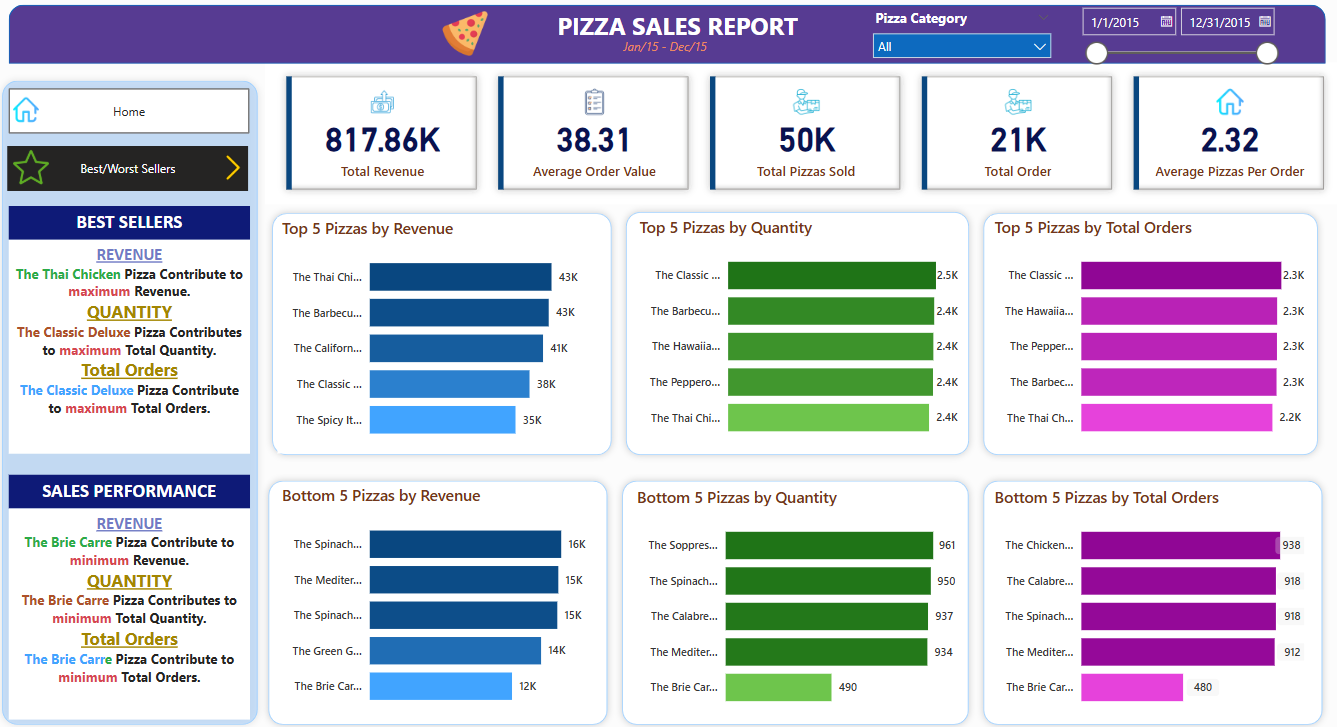

What the dashboard file says about the page in this screenshot:
{"tool":"powerbi","page":{"name":"Best/Worst Sellers","canvas":[1500,820],"ordinal":1},"visuals":[{"type":"shape","box":[0,86.3,300.8,733.9],"z":0},{"type":"cardVisual","fields":{"Data":["cleaned_pizza_sales.Total Revenue","cleaned_pizza_sales.Average Order Value","cleaned_pizza_sales.Total Pizzas Sold","cleaned_pizza_sales.Total Order","cleaned_pizza_sales.Average Pizzas Per Order"]},"box":[300.8,73.8,1199.1,158.8],"z":1000},{"type":"shape","box":[15.7,10,1467.1,65.7],"z":2000},{"type":"textbox","box":[611.4,9.7,298,48.7],"z":3000},{"type":"textbox","box":[694.9,41.8,121.2,32],"z":4000},{"type":"image","box":[492.9,7.1,61.4,70],"z":5000},{"type":"shape","box":[300.8,234,394.1,285.5],"z":6000},{"type":"slicer","title":"% of Sales by Pizza Category","fields":{"Values":["cleaned_pizza_sales.pizza_category"]},"box":[967.9,9.7,218.6,64.1],"z":7000},{"type":"textbox","box":[15.3,234,268.8,37.6],"z":8000},{"type":"textbox","box":[15.3,533.4,268.8,37.6],"z":9000},{"type":"textbox","box":[15.3,271.6,268.8,238.1],"z":10000},{"type":"textbox","box":[15.3,571,268.8,235.4],"z":11000},{"type":"slicer","title":"% of Sales by Pizza Category","fields":{"Values":["cleaned_pizza_sales.order_date"]},"box":[1199.1,2.8,239.5,83.6],"z":12000},{"type":"shape","box":[694.9,232.6,398.3,286.9],"z":13000},{"type":"shape","box":[1093.2,234,388.6,285.5],"z":14000},{"type":"shape","box":[296.6,532,394.1,288.3],"z":15000},{"type":"shape","box":[690.8,532,402.5,288.3],"z":16000},{"type":"shape","box":[1093.2,532,394.1,288.3],"z":17000},{"type":"barChart","title":"Top 5 Pizzas by Revenue","fields":{"Category":["cleaned_pizza_sales.pizza_name"],"Y":["cleaned_pizza_sales.Total Revenue"]},"box":[314.7,246.5,360.7,263.2],"z":18000},{"type":"barChart","title":"Bottom 5 Pizzas by Revenue","fields":{"Category":["cleaned_pizza_sales.pizza_name"],"Y":["cleaned_pizza_sales.Total Revenue"]},"box":[314.7,544.5,360.7,261.8],"z":19000},{"type":"barChart","title":"Top 5 Pizzas by Quantity","fields":{"Category":["cleaned_pizza_sales.pizza_name"],"Y":["cleaned_pizza_sales.Total Pizzas Sold"]},"box":[712.4,244.4,365,262.1],"z":20000},{"type":"barChart","title":"Bottom 5 Pizzas by Quantity","fields":{"Category":["cleaned_pizza_sales.pizza_name"],"Y":["cleaned_pizza_sales.Total Pizzas Sold"]},"box":[710.3,545.9,364.9,261.8],"z":21000},{"type":"barChart","title":"Top 5 Pizzas by Total Orders","fields":{"Category":["cleaned_pizza_sales.pizza_name"],"Y":["cleaned_pizza_sales.Total Order"]},"box":[1108,244.4,355.4,262.1],"z":22000},{"type":"barChart","title":"Bottom 5 Pizzas by Total Orders","fields":{"Category":["cleaned_pizza_sales.pizza_name"],"Y":["cleaned_pizza_sales.Total Order"]},"box":[1108.6,545.9,355.1,261.8],"z":23000},{"type":"pageNavigator","box":[13.9,167.1,268.8,50.1],"z":23001},{"type":"pageNavigator","box":[15.3,103.1,268.8,50.1],"z":23002},{"type":"image","box":[246.5,164.3,37.6,52.9],"z":23003},{"type":"image","box":[15.3,100.3,39,52.9],"z":23004},{"type":"image","box":[15.3,164.3,50.1,52.9],"z":23005}]}

Visuals, with their boxes in screenshot pixels (x1, y1, x2, y2), scaled from the page's 1500x820 canvas onto the 1337x727 screenshot:
shape: 0, 77, 268, 726
cardVisual - cleaned_pizza_sales.Total Revenue x cleaned_pizza_sales.Average Order Value: 268, 65, 1336, 206
shape: 14, 9, 1322, 67
textbox: 545, 9, 811, 52
textbox: 619, 37, 727, 65
image: 439, 6, 494, 68
shape: 268, 207, 619, 461
"% of Sales by Pizza Category" slicer: 863, 9, 1058, 65
textbox: 14, 207, 253, 241
textbox: 14, 473, 253, 506
textbox: 14, 241, 253, 452
textbox: 14, 506, 253, 715
"% of Sales by Pizza Category" slicer: 1069, 2, 1282, 77
shape: 619, 206, 974, 461
shape: 974, 207, 1321, 461
shape: 264, 472, 616, 726
shape: 616, 472, 974, 726
shape: 974, 472, 1326, 726
"Top 5 Pizzas by Revenue" barChart: 281, 219, 602, 452
"Bottom 5 Pizzas by Revenue" barChart: 281, 483, 602, 715
"Top 5 Pizzas by Quantity" barChart: 635, 217, 960, 449
"Bottom 5 Pizzas by Quantity" barChart: 633, 484, 958, 716
"Top 5 Pizzas by Total Orders" barChart: 988, 217, 1304, 449
"Bottom 5 Pizzas by Total Orders" barChart: 988, 484, 1305, 716
pageNavigator: 12, 148, 252, 193
pageNavigator: 14, 91, 253, 136
image: 220, 146, 253, 193
image: 14, 89, 48, 136
image: 14, 146, 58, 193
